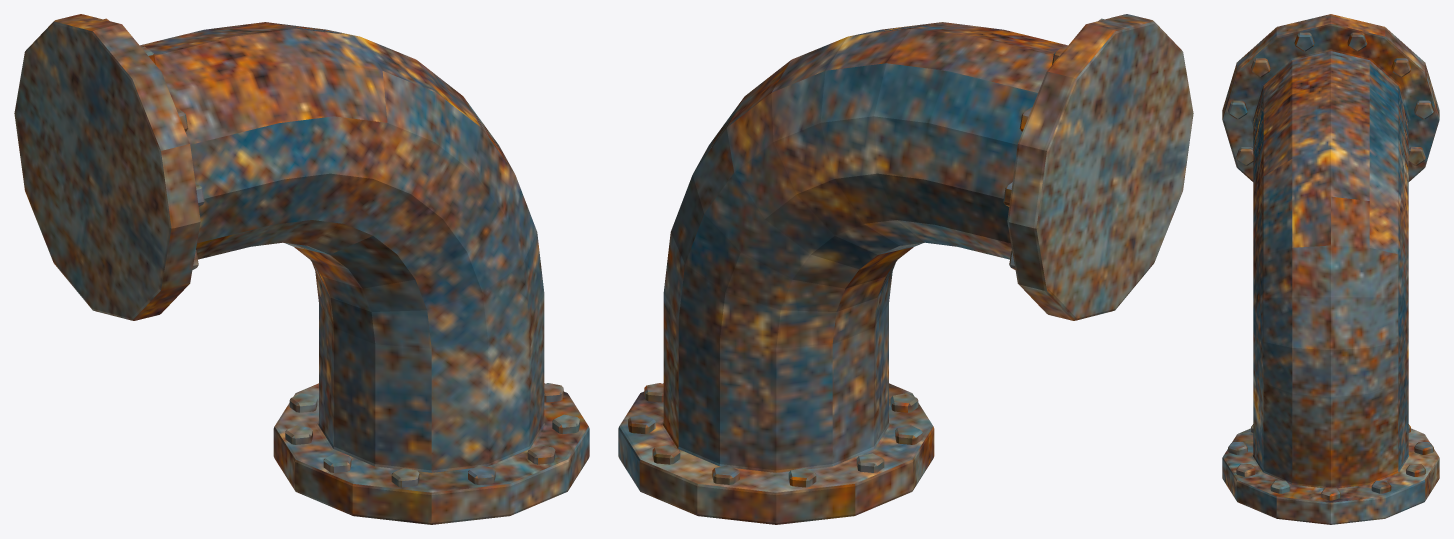
The model's file is pipe.09.fbx.
3 renders of one model, left to right at view 1: azimuth 30°, elevation 25°; view 2: azimuth 150°, elevation 25°; view 3: azimuth 270°, elevation 25°, orthographic. The views are drawn at different scales.
Parts seen in each view (by area): view 1: Pipe.09; view 2: Pipe.09; view 3: Pipe.09.
Part boxes in pixels (x1,y1,x2,y2): Pipe.09: (14, 14, 589, 524); Pipe.09: (618, 14, 1193, 524); Pipe.09: (1222, 14, 1439, 524).
Size of the model in its own units: 97.46 by 100 by 55.99.
